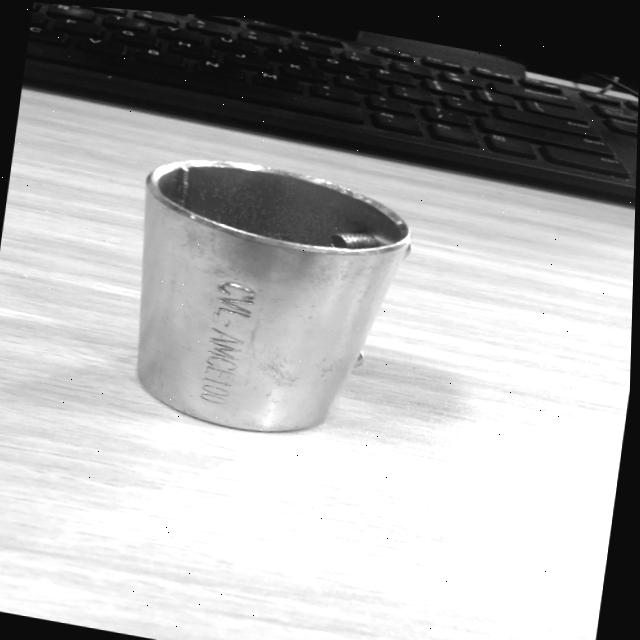Co_Nho: (98, 142, 419, 455)
